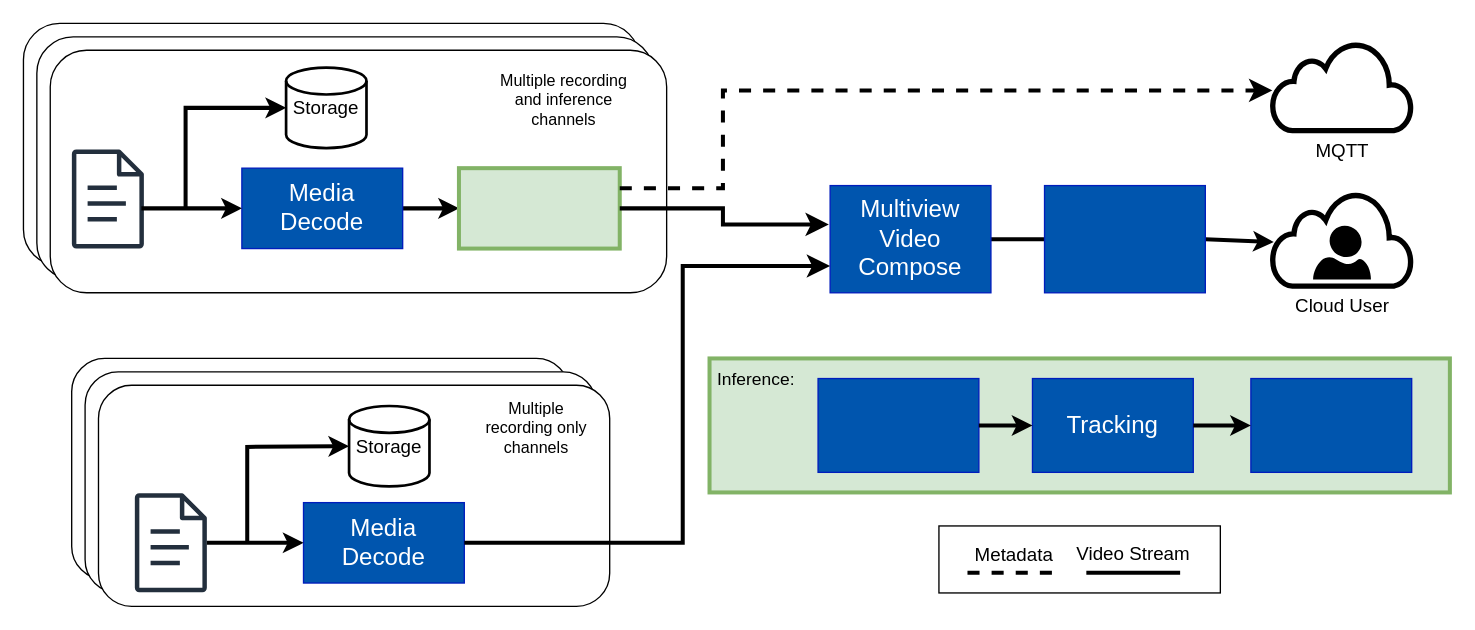
The diagram is 1475 pixels wide and 630 high, and some of its shapes have lost their labels. Here are the shapes that lost their labels. From the top down, the centre of each, then its label:
At [538,207]: "Inference".
At [1124,238]: "H.264 Encode".
At [898,424]: "Object Detection".
At [1331,424]: "Object Classification".
